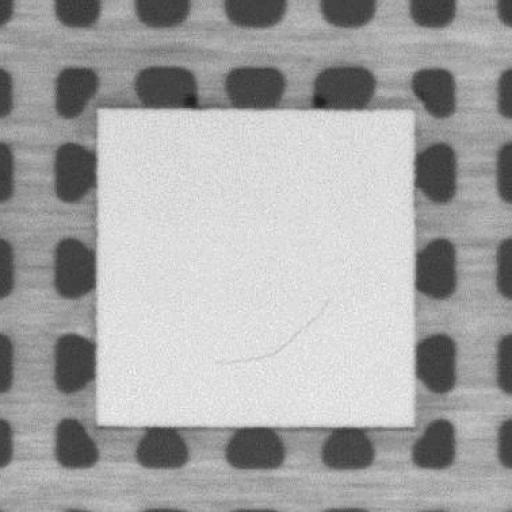DIE_CRACK: (214, 294, 329, 360)
